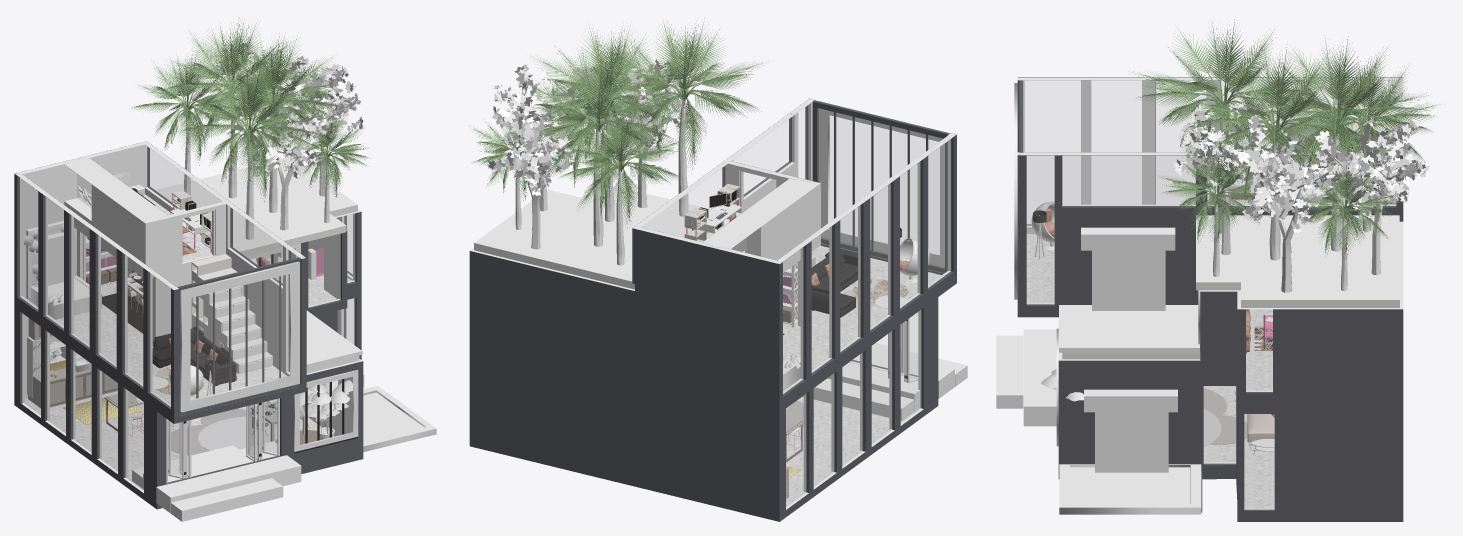
File: house-transformed.glb
3 views of the same model, side by side, from view 1: azimuth 30°, elevation 25°; view 2: azimuth 150°, elevation 25°; view 3: azimuth 270°, elevation 25° (orthographic). The views are drawn at different scales.
Visible parts, largest first — view 1: Object_61, Object_72, Object_25, Object_87, Object_66, Object_65, Object_22, Object_73, Object_32, Object_101, Object_30, Object_58 (+15 smaller); view 2: Object_72, Object_61, Object_66, Object_25, Object_87, Object_65, Object_73, Object_32, Object_22, Object_30, Object_62, Object_70 (+5 smaller); view 3: Object_72, Object_61, Object_101, Object_25, Object_65, Object_32, Object_66, Object_73, Object_22, Object_87, Object_30, Object_23 (+5 smaller).
Boxes of the visible parts, <box> form: Object_61: <box>20,147,354,489</box>; Object_72: <box>14,143,363,509</box>; Object_25: <box>26,74,436,521</box>; Object_87: <box>19,144,355,482</box>; Object_66: <box>131,33,340,201</box>; Object_65: <box>163,17,367,197</box>; Object_22: <box>23,194,351,490</box>; Object_73: <box>155,159,357,251</box>; Object_32: <box>212,42,360,177</box>; Object_101: <box>35,241,423,441</box>; Object_30: <box>15,141,362,374</box>; Object_58: <box>143,254,334,439</box>; Object_72: <box>469,98,956,521</box>; Object_61: <box>642,106,950,506</box>; Object_66: <box>487,18,763,228</box>; Object_25: <box>506,86,967,420</box>; Object_87: <box>643,102,950,492</box>; Object_65: <box>472,48,689,202</box>; Object_73: <box>474,185,709,281</box>; Object_32: <box>486,59,690,195</box>; Object_22: <box>706,232,941,506</box>; Object_30: <box>470,98,956,290</box>; Object_62: <box>812,100,949,274</box>; Object_70: <box>697,190,901,334</box>; Object_72: <box>1017,77,1403,521</box>; Object_61: <box>1025,80,1395,509</box>; Object_101: <box>1059,250,1199,504</box>; Object_25: <box>996,83,1402,514</box>; Object_65: <box>1160,35,1428,247</box>; Object_32: <box>1172,88,1429,232</box>; Object_66: <box>1132,19,1438,259</box>; Object_73: <box>1196,215,1399,299</box>; Object_22: <box>1026,179,1396,508</box>; Object_87: <box>1023,79,1397,509</box>; Object_30: <box>1017,77,1403,360</box>; Object_23: <box>1062,282,1399,359</box>.
Size of the model in its own units: 12.07 by 13.61 by 12.85.
46 materials, 20 textured.
